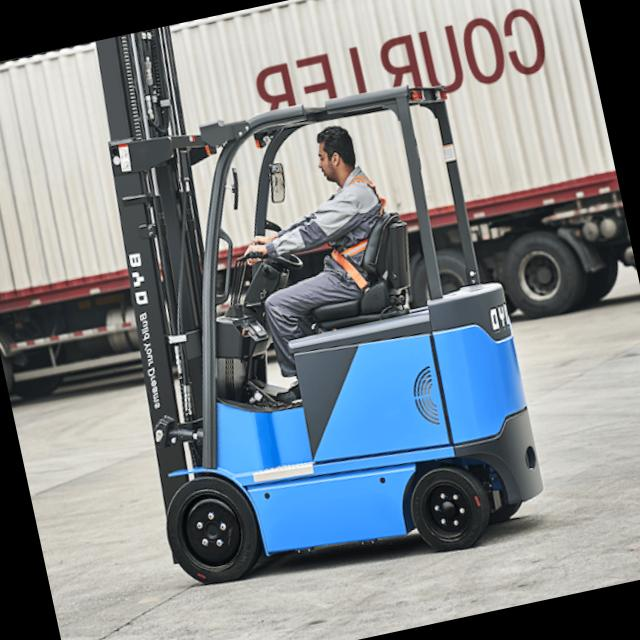Person: (222, 117, 416, 380)
